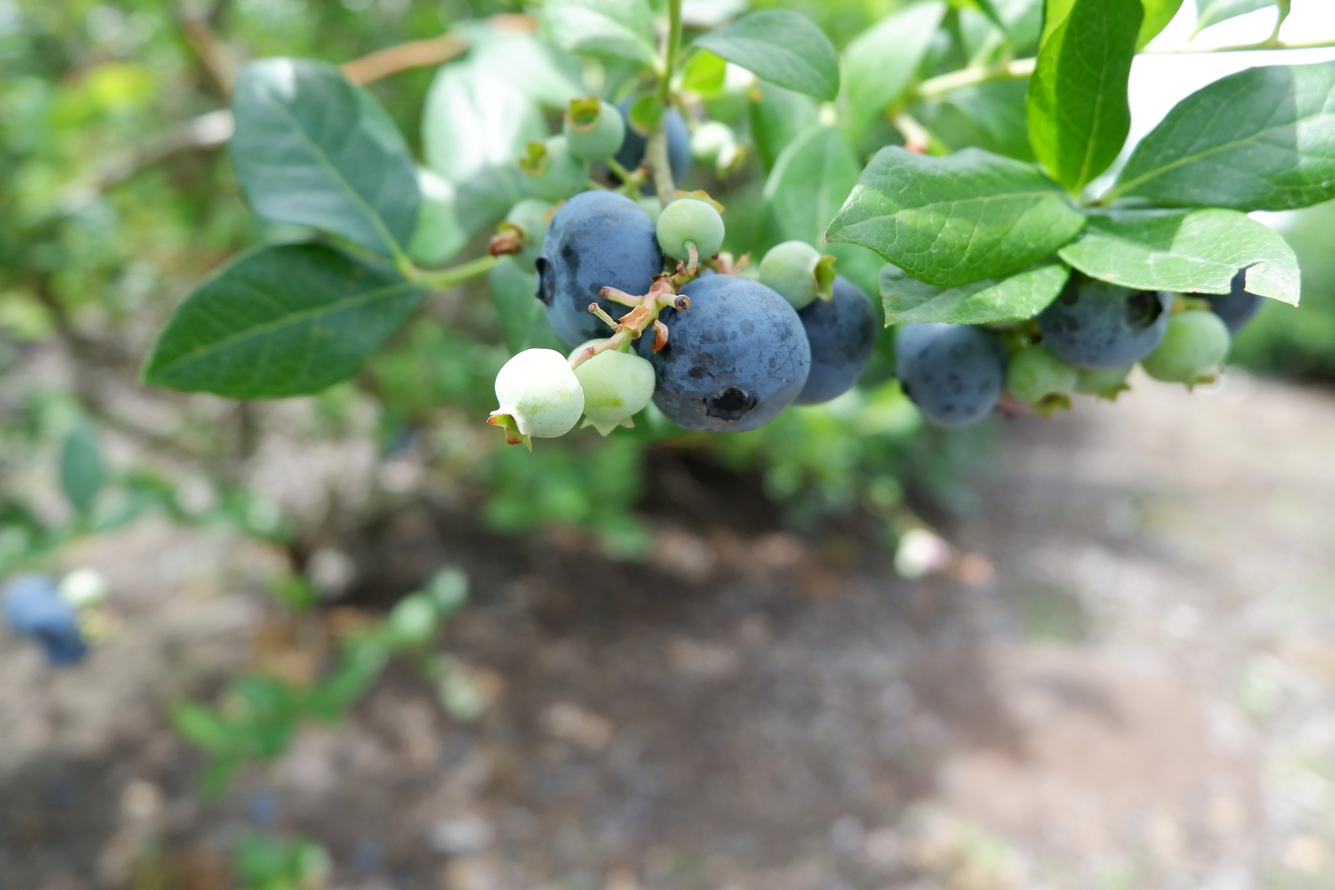Immature: (493, 351, 581, 446), (571, 341, 653, 432), (1142, 307, 1228, 393), (1007, 344, 1078, 414), (518, 135, 590, 202), (759, 243, 833, 305), (561, 97, 626, 165), (498, 200, 558, 272), (659, 195, 724, 261), (1077, 365, 1134, 401)
Mature: (638, 280, 807, 428), (536, 195, 660, 342), (1041, 273, 1173, 367), (898, 324, 1004, 422), (798, 273, 877, 404), (1184, 268, 1265, 336)
